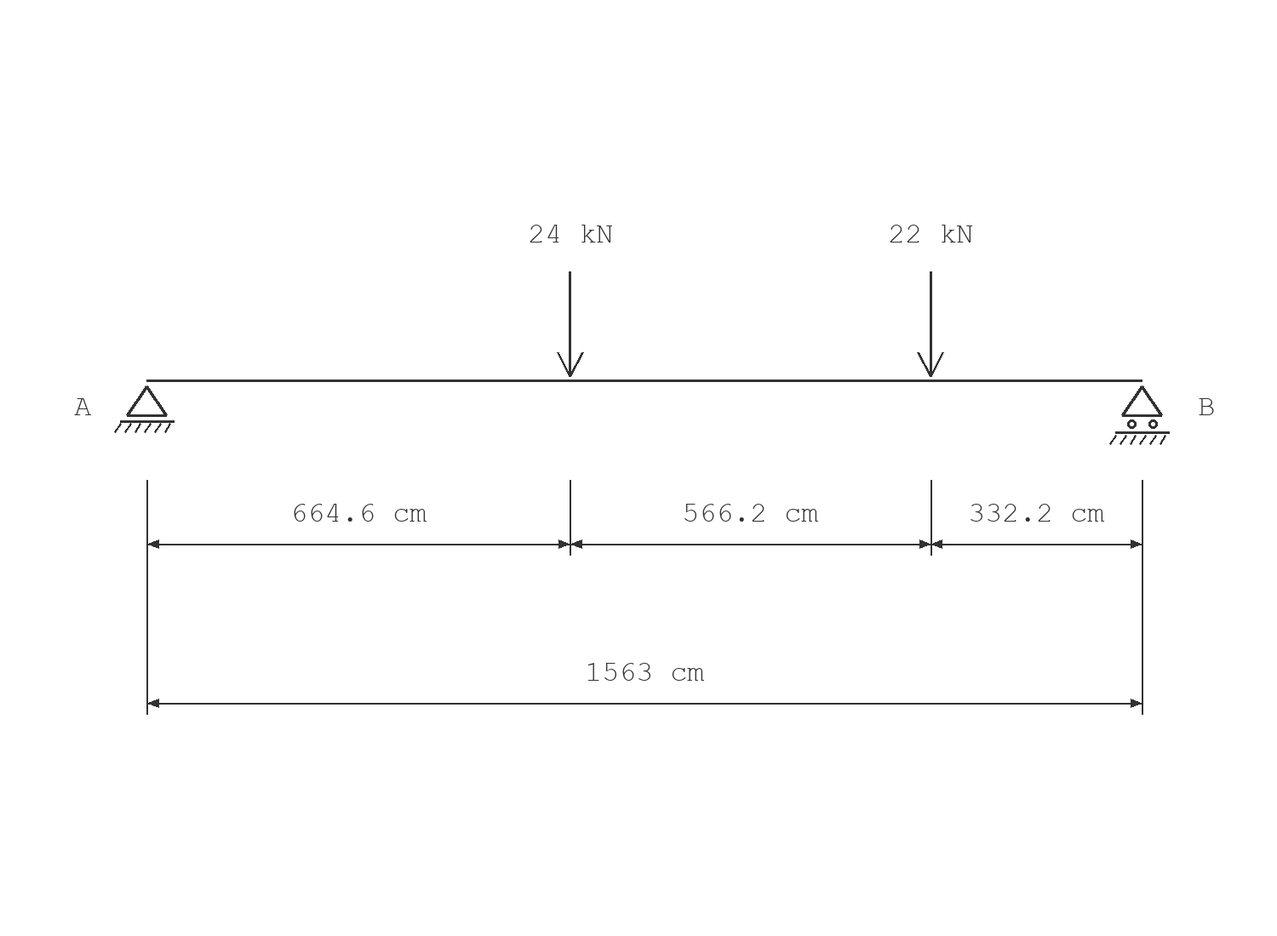pin_support: (114, 385, 175, 433)
point_load: (557, 271, 584, 377), (917, 271, 944, 377)
roller_support: (1109, 385, 1170, 445)
